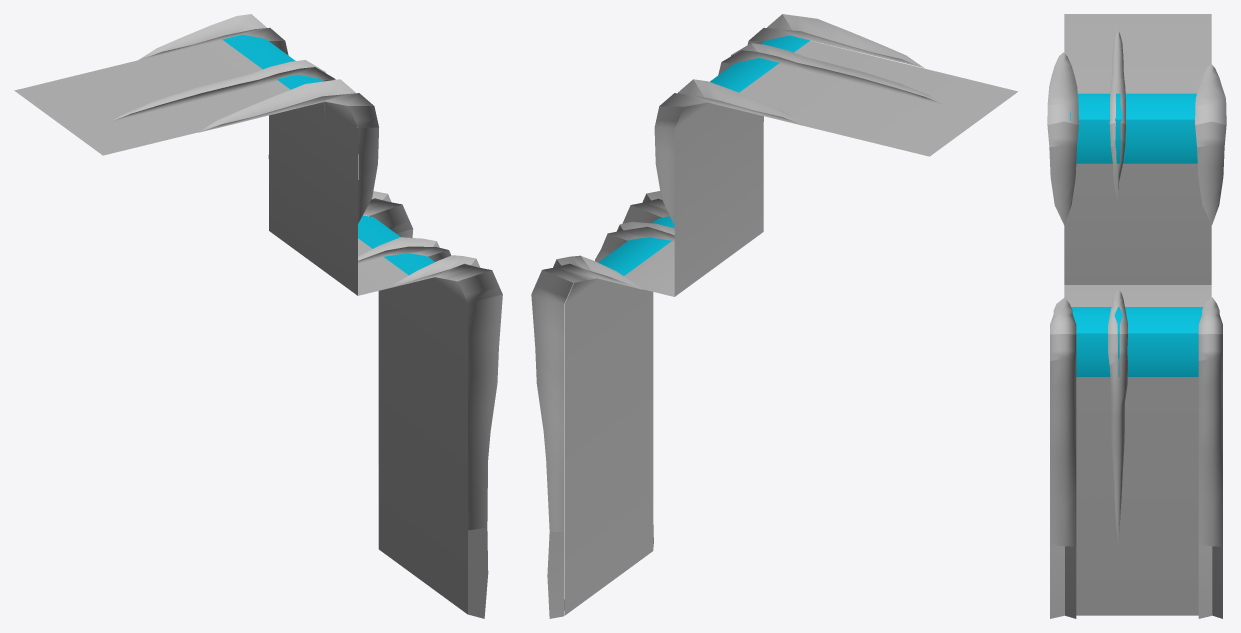
Rendered from Waterfall2a.fbx.
3 views of the same model, side by side, from view 1: azimuth 30°, elevation 25°; view 2: azimuth 150°, elevation 25°; view 3: azimuth 270°, elevation 25° (orthographic). The views are drawn at different scales.
Visible parts, largest first — view 1: Waterfall2a, polySurface16, polySurface15, polySurface17, polySurface13, SchiumaCentro1, polySurface14, SchiumaCentro2, polySurface18; view 2: Waterfall2a, polySurface14, polySurface13, polySurface17, polySurface15, SchiumaCentro1, SchiumaCentro2, polySurface18, polySurface16; view 3: Waterfall2a, polySurface16, SchiumaCentro1, polySurface14, SchiumaCentro2, polySurface15, polySurface13, polySurface18, polySurface17.
Part boxes in pixels (left/top/right/bottom): Waterfall2a: left=14, top=40, right=467, bottom=614; polySurface16: left=389, top=255, right=502, bottom=618; polySurface15: left=198, top=79, right=378, bottom=223; polySurface17: left=109, top=60, right=335, bottom=126; polySurface13: left=138, top=14, right=288, bottom=158; SchiumaCentro1: left=222, top=34, right=357, bottom=126; polySurface14: left=363, top=191, right=413, bottom=548; SchiumaCentro2: left=358, top=215, right=434, bottom=275; polySurface18: left=358, top=237, right=451, bottom=263; Waterfall2a: left=564, top=40, right=1018, bottom=615; polySurface14: left=531, top=255, right=643, bottom=618; polySurface13: left=654, top=79, right=805, bottom=224; polySurface17: left=718, top=43, right=947, bottom=111; polySurface15: left=747, top=14, right=923, bottom=121; SchiumaCentro1: left=710, top=35, right=809, bottom=92; SchiumaCentro2: left=598, top=216, right=674, bottom=275; polySurface18: left=595, top=221, right=674, bottom=262; polySurface16: left=622, top=191, right=669, bottom=546; Waterfall2a: left=1064, top=14, right=1211, bottom=615; polySurface16: left=1050, top=297, right=1076, bottom=618; SchiumaCentro1: left=1070, top=93, right=1197, bottom=163; polySurface14: left=1198, top=297, right=1222, bottom=618; SchiumaCentro2: left=1071, top=307, right=1203, bottom=376; polySurface15: left=1047, top=52, right=1078, bottom=224; polySurface13: left=1195, top=64, right=1226, bottom=224; polySurface18: left=1108, top=289, right=1127, bottom=544; polySurface17: left=1109, top=29, right=1125, bottom=201.
Size of the model in its own units: 1.81 by 2.49 by 0.8681.
